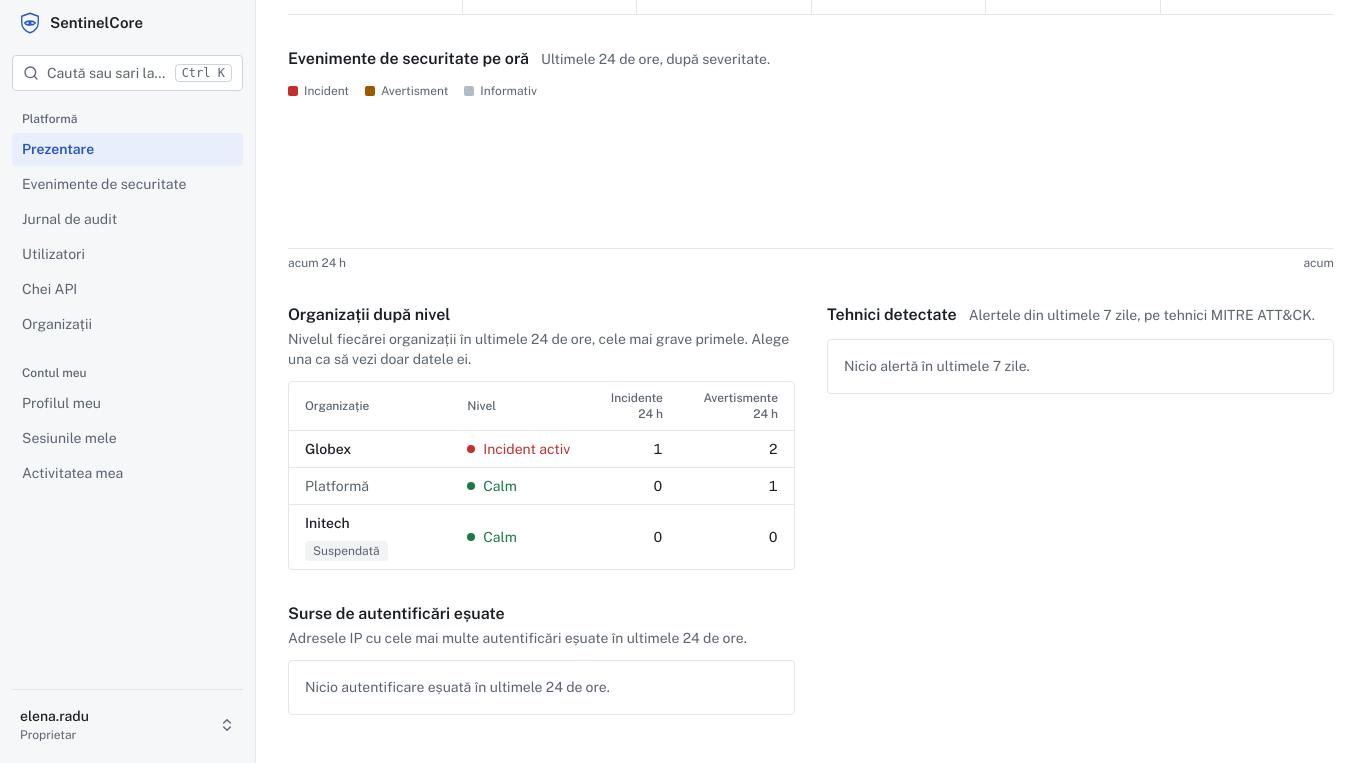
Test: the owner’s choice of organization › opens one organization from the platform overview
(page scrolled)
Expected: the row "Globex Incident activ 1 2" is shown, [289,430,794,468]
Expected: the row "Platformă Calm 0 1" is shown, [289,468,794,504]
Click the button with aria-label "Arată doar Globex" at (328, 449), box [305,439,351,459]
(page scrolled)
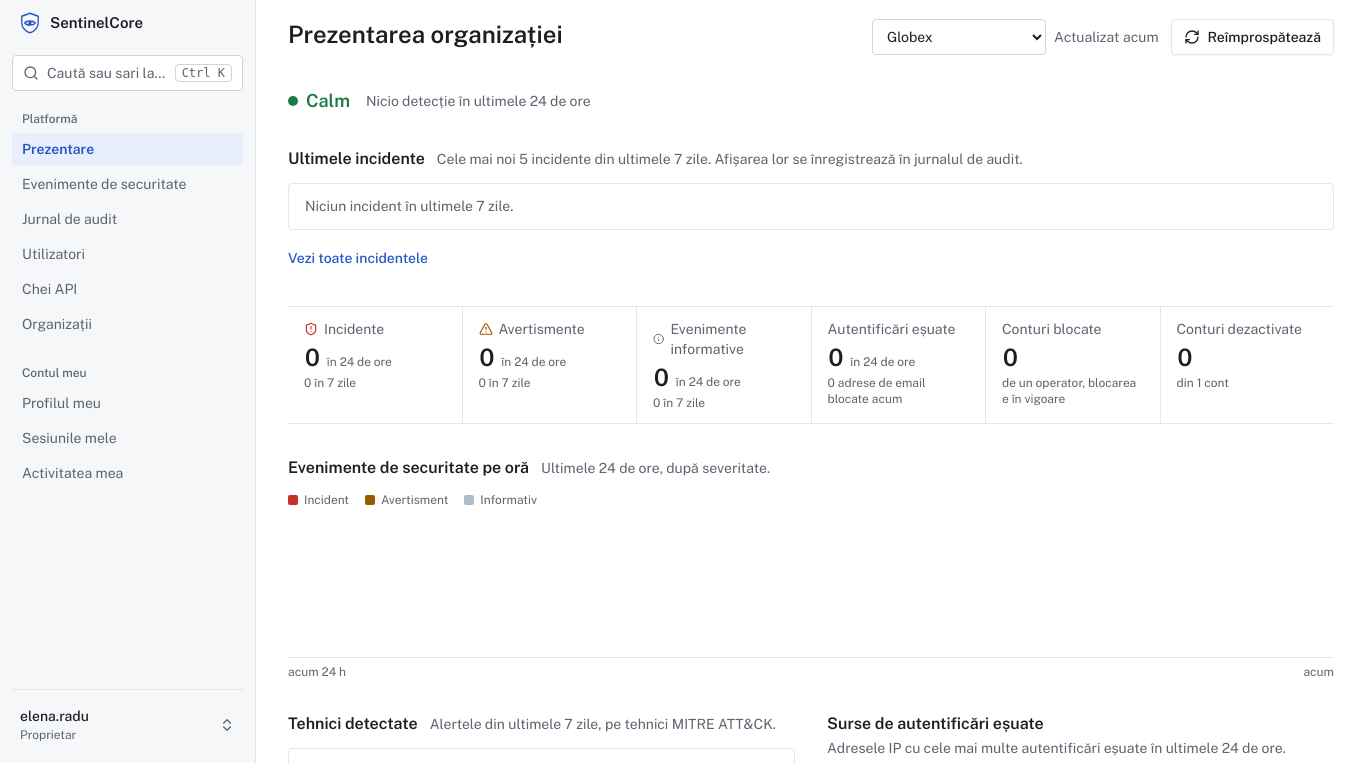
Expected: the heading "Prezentarea organizației" is shown, [288,19,563,49]
Expected: the heading "Organizații după nivel" is gone
Expected: the dropdown named "Organizația afișată" shows "Globex", [872,19,1046,55]
